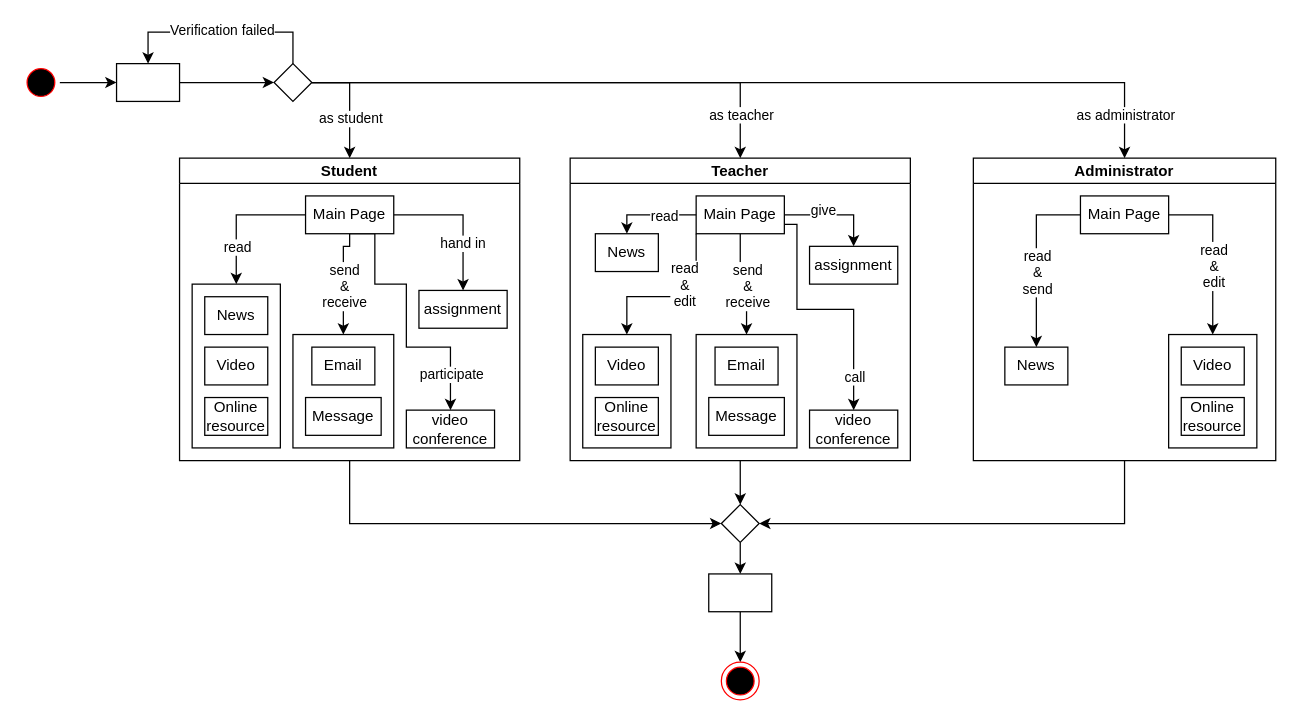
Image size: 1298x722. Some labels were removed from this diagram. The centre of each missing label's shape, as x and y in pixels:
Login: pixel 147 81
Logout: pixel 739 592
